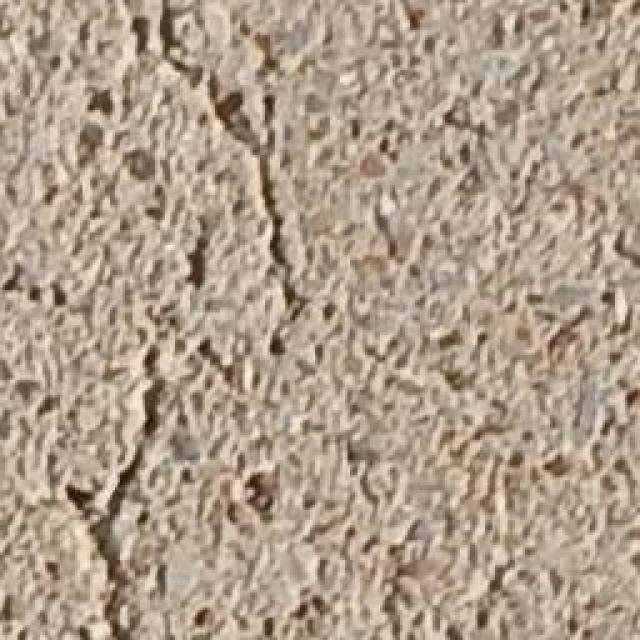concrete-crack: (147, 0, 301, 365), (51, 333, 172, 638)
